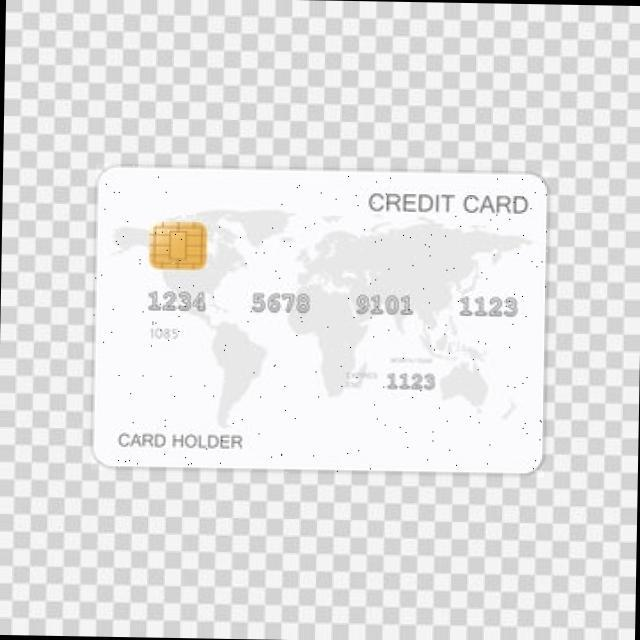payment_card: (92, 165, 547, 473)
